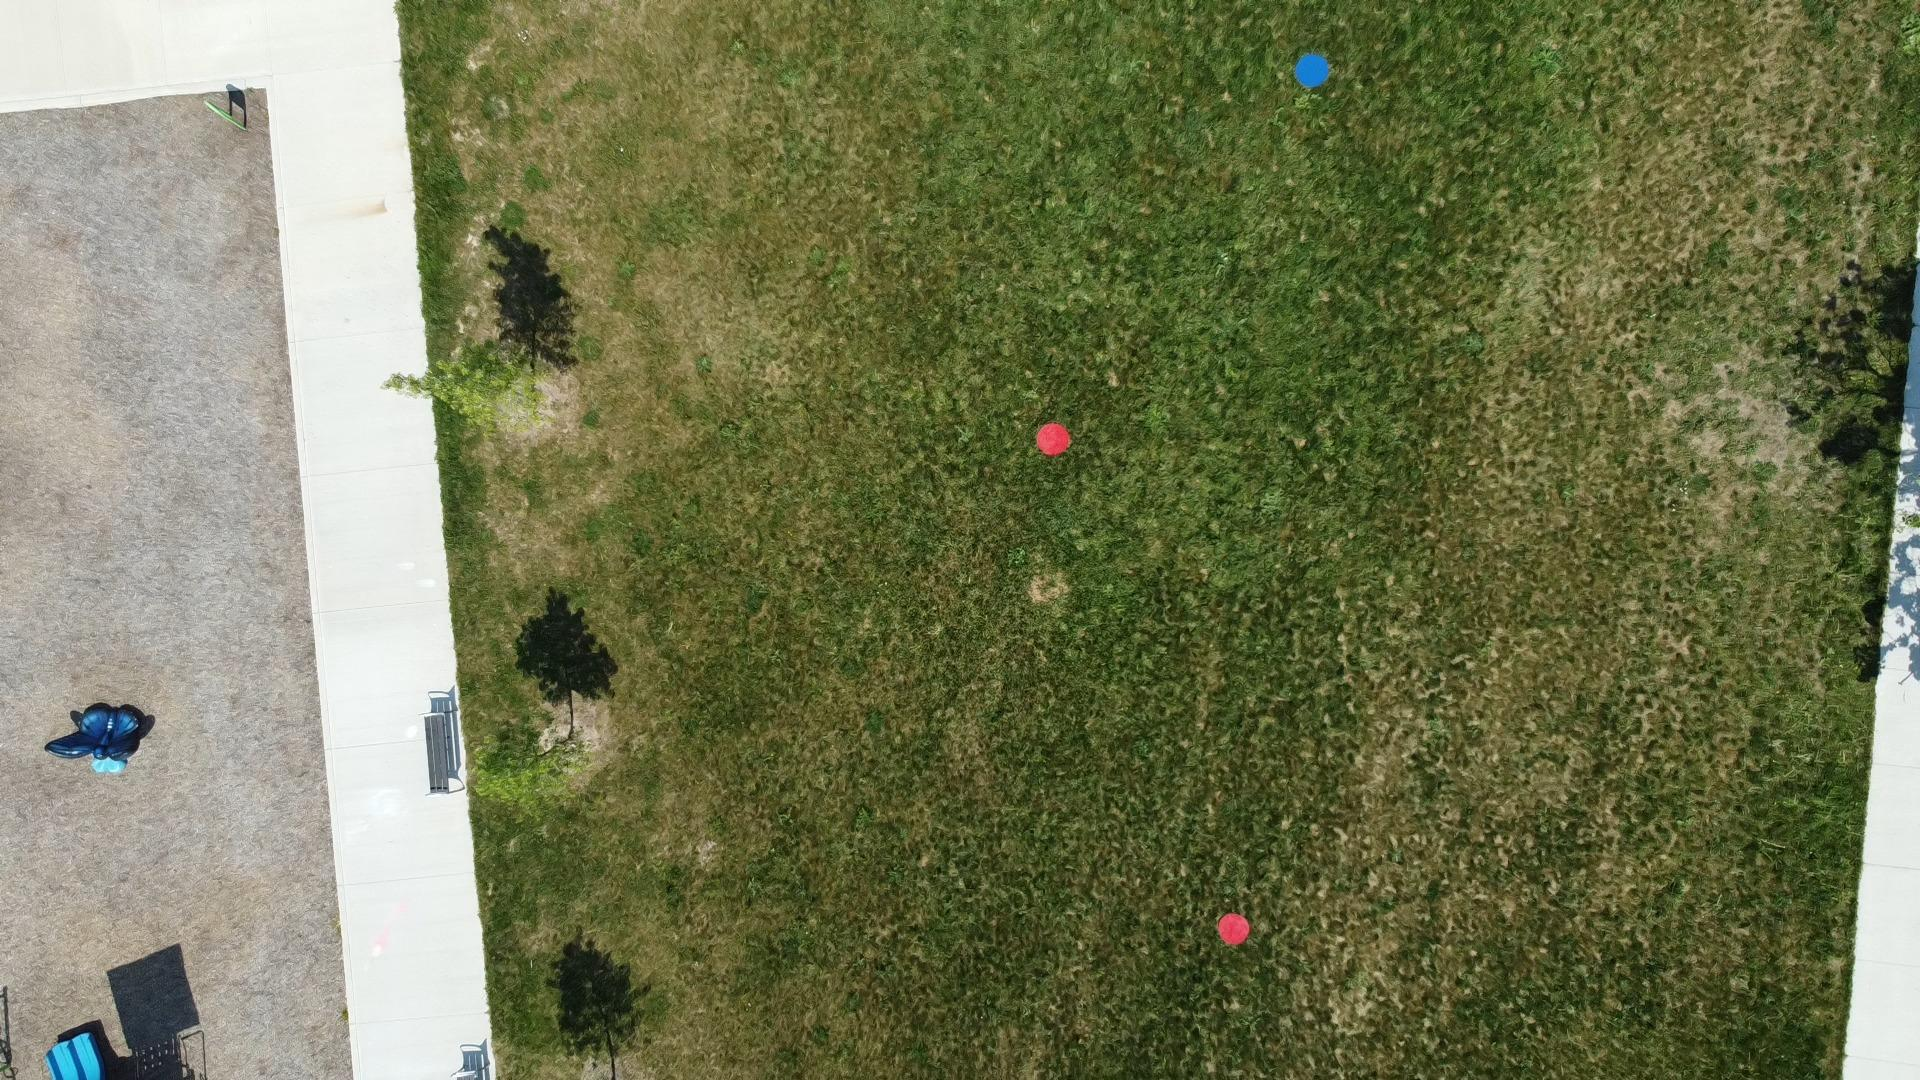Blue: (1294, 54, 1331, 88)
Red: (1215, 911, 1251, 947), (1035, 422, 1071, 458)
